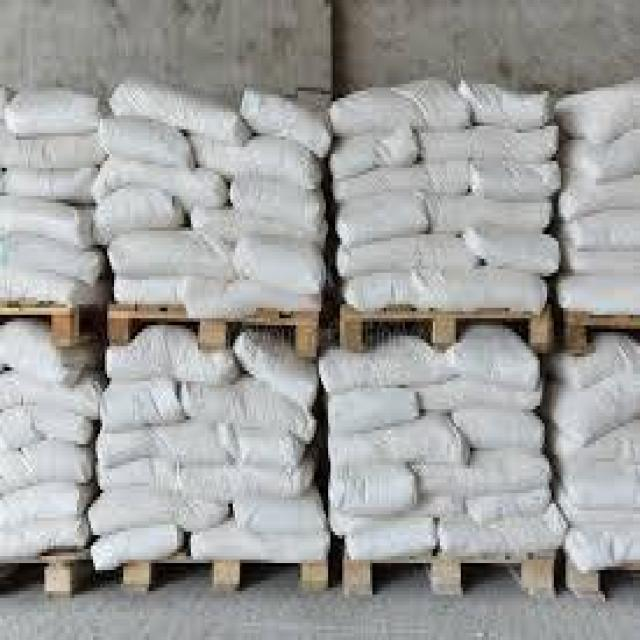gunny_bag: (108, 72, 252, 143), (331, 411, 474, 482), (90, 159, 230, 218), (321, 338, 453, 398), (436, 505, 568, 563), (105, 331, 237, 388), (546, 367, 640, 446), (183, 389, 317, 444), (193, 135, 322, 190), (88, 488, 234, 536), (108, 231, 245, 281), (421, 449, 550, 501), (233, 331, 319, 408), (176, 454, 316, 501), (240, 88, 334, 157), (0, 324, 102, 386), (338, 236, 480, 280), (339, 162, 469, 209), (428, 268, 552, 316), (558, 78, 640, 150), (189, 204, 328, 245), (333, 192, 430, 250), (448, 325, 539, 386), (102, 426, 232, 468), (234, 234, 328, 292), (422, 125, 558, 164), (188, 530, 334, 566), (431, 194, 556, 236), (93, 189, 185, 246), (330, 125, 417, 183), (101, 117, 197, 169), (230, 178, 326, 230), (100, 376, 185, 434), (467, 223, 559, 276), (554, 452, 636, 511), (0, 367, 102, 414), (3, 441, 91, 494), (328, 388, 421, 437), (461, 82, 556, 129), (93, 525, 184, 574), (330, 87, 424, 134), (347, 518, 438, 566), (13, 238, 103, 285), (241, 485, 327, 534), (559, 136, 638, 189), (4, 90, 101, 133), (2, 485, 92, 531), (5, 512, 89, 561), (454, 406, 544, 451), (339, 270, 432, 312), (557, 177, 638, 224), (474, 161, 560, 205), (426, 380, 543, 412), (6, 202, 91, 245), (0, 406, 91, 446), (565, 524, 638, 573), (555, 273, 640, 314), (333, 470, 415, 512), (94, 455, 180, 494), (1, 136, 98, 169), (561, 212, 639, 251), (560, 238, 640, 275), (232, 426, 301, 468), (8, 169, 93, 201)
